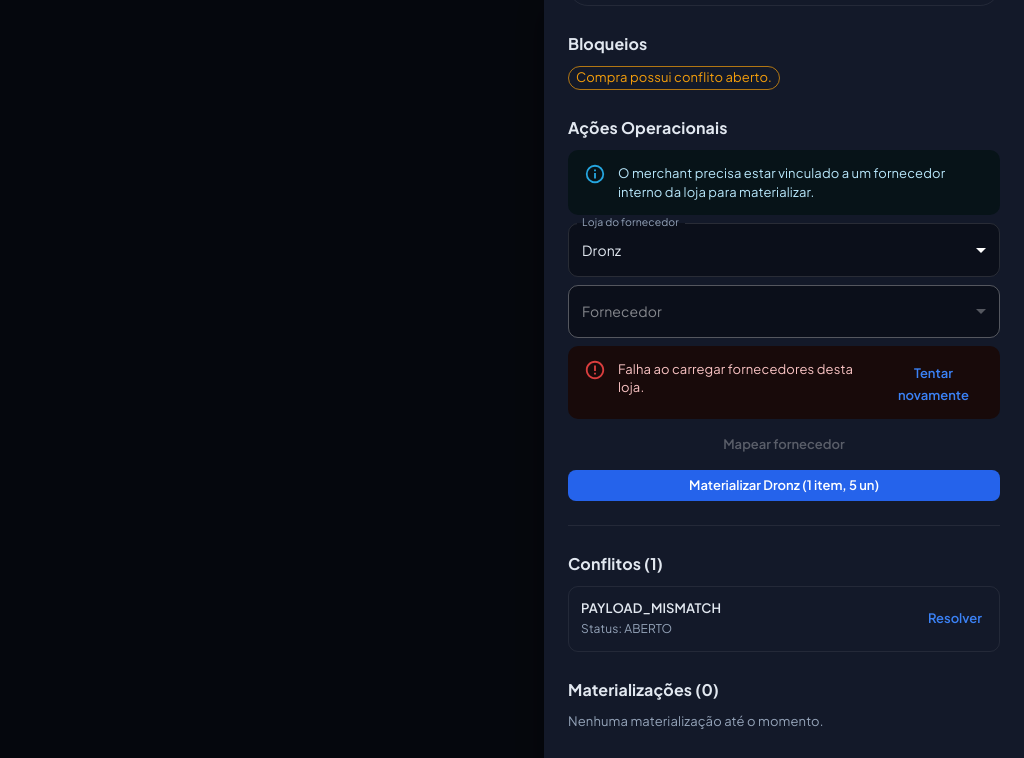
it: Regressão — mapping merchant/fornecedor no drawer › falha no catálogo de fornecedores permite retry sem enviar mutação
(page scrolled)
Check: the text "Falha ao carregar fornecedores desta loja." is shown, box top-left (618, 361), bottom-right (853, 395)
Check: the button "Mapear fornecedor" is disabled, box top-left (568, 427), bottom-right (1000, 462)
Click the button "Tentar novamente" at (933, 384), box top-left (875, 356), bottom-right (992, 413)
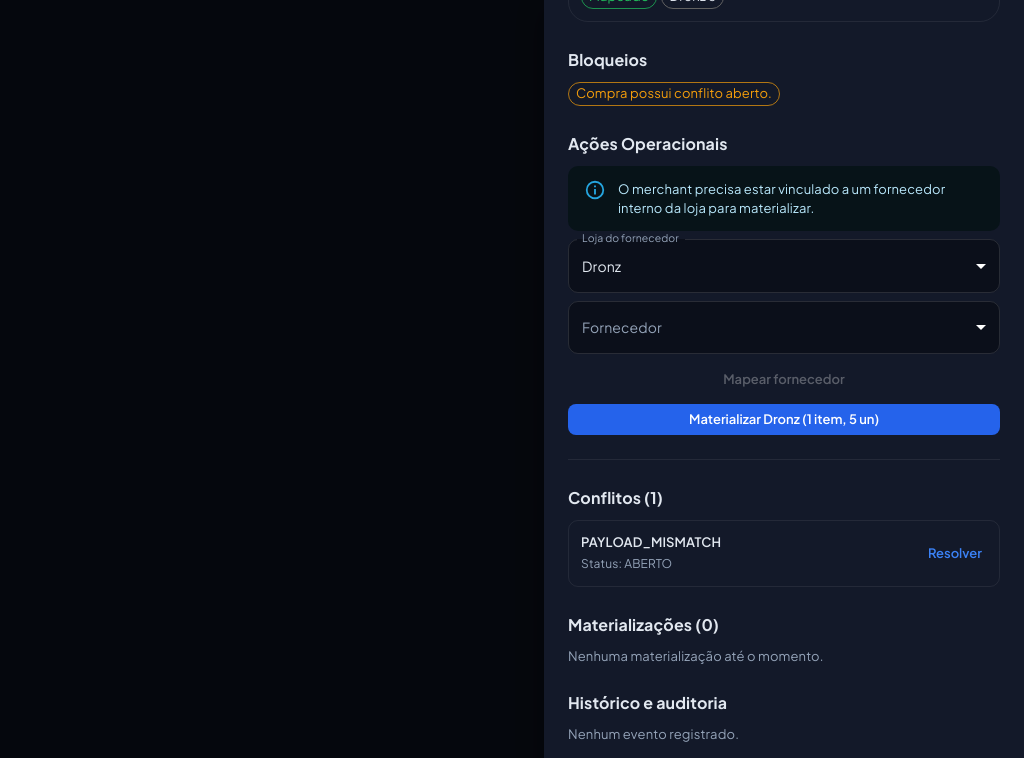
Check: the text "Falha ao carregar fornecedores desta loja." is gone
Click the dropdown named "Fornecedor" at (784, 327), box top-left (568, 300), bottom-right (1000, 354)
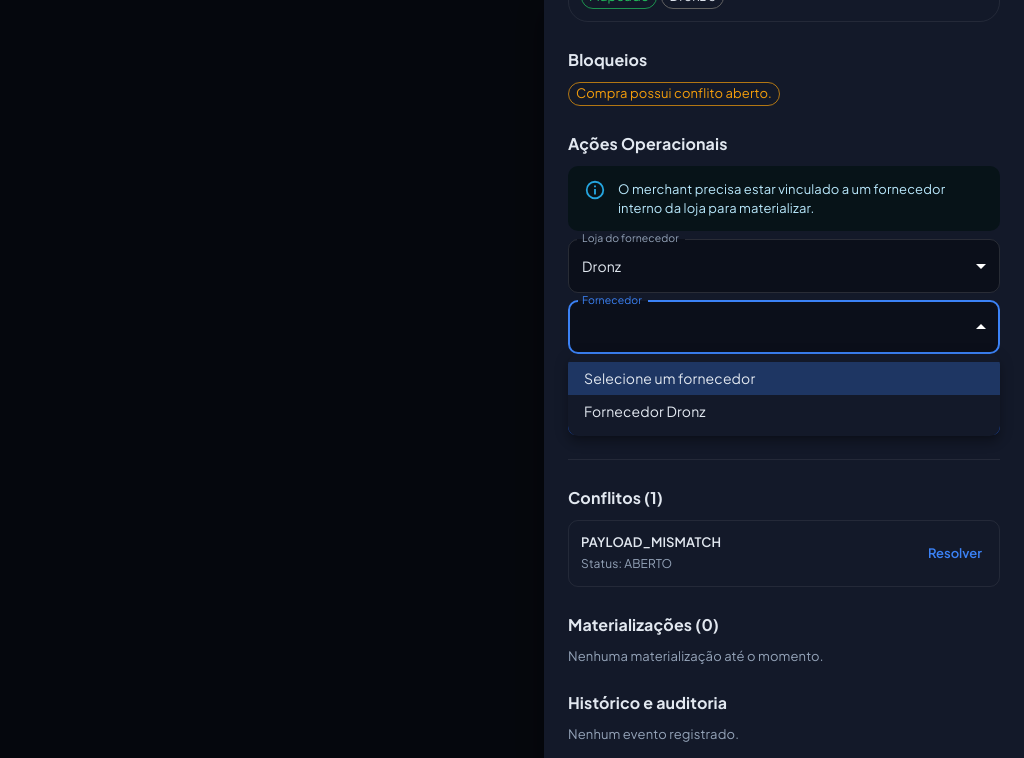
Check: the option "Fornecedor Dronz" is shown, box top-left (584, 402), bottom-right (706, 420)
